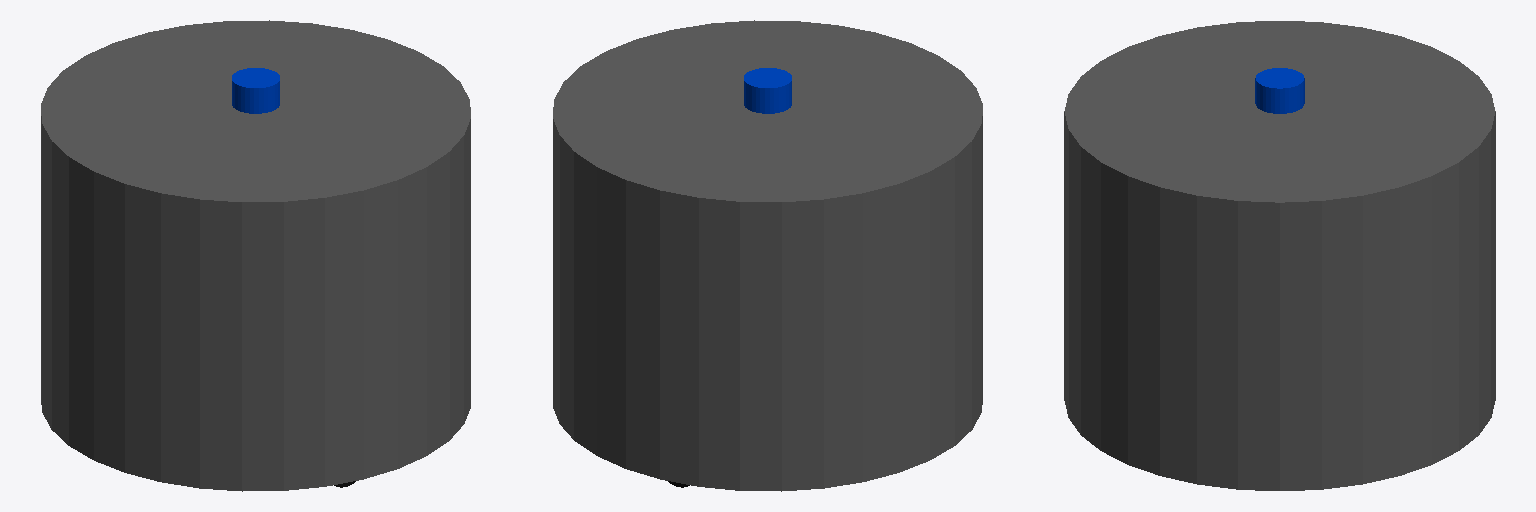
robot.urdf — slam_robot:
<?xml version="1.0"?>
<!--
  Robot URDF Description
  ======================
  Octagonal base robot with LD06 LiDAR
  
  Dimensions:
    - Height:               520mm (0.52m)
    - Octagonal base:       255mm per side, 615.62mm flat-to-flat
    - Wheel track (between wheels): 488mm (0.488m)
    - LiDAR height:         mounted on top (z = 0.52m from ground)
    - Wheel diameter:       65mm (0.065m), width ~26mm
-->
<robot name="slam_robot">

  <!-- ============================================================ -->
  <!--  BASE FOOTPRINT (ground projection)                          -->
  <!-- ============================================================ -->
  <link name="base_footprint"/>

  <joint name="base_footprint_to_base_link" type="fixed">
    <parent link="base_footprint"/>
    <child link="base_link"/>
    <!-- base_link is at wheel axle height = wheel_radius = 0.0325m -->
    <origin xyz="0 0 0.0325" rpy="0 0 0"/>
  </joint>

  <!-- ============================================================ -->
  <!--  BASE LINK (octagonal body)                                  -->
  <!-- ============================================================ -->
  <link name="base_link">
    <visual>
      <origin xyz="0 0 0.2275" rpy="0 0 0"/>
      <!-- Approximate octagon as a cylinder with circumradius ~0.308m -->
      <geometry>
        <cylinder radius="0.30781" length="0.455"/>
      </geometry>
      <material name="chassis_grey">
        <color rgba="0.4 0.4 0.4 1.0"/>
      </material>
    </visual>
    <collision>
      <origin xyz="0 0 0.2275" rpy="0 0 0"/>
      <geometry>
        <cylinder radius="0.30781" length="0.455"/>
      </geometry>
    </collision>
    <inertial>
      <origin xyz="0 0 0.2275" rpy="0 0 0"/>
      <mass value="5.0"/>
      <inertia ixx="0.1" ixy="0" ixz="0"
               iyy="0.1" iyz="0"
               izz="0.1"/>
    </inertial>
  </link>

  <!-- ============================================================ -->
  <!--  LEFT WHEEL                                                  -->
  <!-- ============================================================ -->
  <link name="left_wheel">
    <visual>
      <origin xyz="0 0 0" rpy="1.5708 0 0"/>
      <geometry>
        <cylinder radius="0.0325" length="0.026"/>
      </geometry>
      <material name="wheel_black">
        <color rgba="0.1 0.1 0.1 1.0"/>
      </material>
    </visual>
    <collision>
      <origin xyz="0 0 0" rpy="1.5708 0 0"/>
      <geometry>
        <cylinder radius="0.0325" length="0.026"/>
      </geometry>
    </collision>
    <inertial>
      <mass value="0.2"/>
      <inertia ixx="0.0001" ixy="0" ixz="0"
               iyy="0.0001" iyz="0"
               izz="0.0001"/>
    </inertial>
  </link>

  <joint name="left_wheel_joint" type="continuous">
    <parent link="base_link"/>
    <child link="left_wheel"/>
    <!-- Wheel at axle height (base_link origin), offset left by half track width -->
    <origin xyz="0 0.244 0" rpy="0 0 0"/>
    <axis xyz="0 1 0"/>
  </joint>

  <!-- ============================================================ -->
  <!--  RIGHT WHEEL                                                 -->
  <!-- ============================================================ -->
  <link name="right_wheel">
    <visual>
      <origin xyz="0 0 0" rpy="1.5708 0 0"/>
      <geometry>
        <cylinder radius="0.0325" length="0.026"/>
      </geometry>
      <material name="wheel_black">
        <color rgba="0.1 0.1 0.1 1.0"/>
      </material>
    </visual>
    <collision>
      <origin xyz="0 0 0" rpy="1.5708 0 0"/>
      <geometry>
        <cylinder radius="0.0325" length="0.026"/>
      </geometry>
    </collision>
    <inertial>
      <mass value="0.2"/>
      <inertia ixx="0.0001" ixy="0" ixz="0"
               iyy="0.0001" iyz="0"
               izz="0.0001"/>
    </inertial>
  </link>

  <joint name="right_wheel_joint" type="continuous">
    <parent link="base_link"/>
    <child link="right_wheel"/>
    <!-- Wheel at axle height (base_link origin), offset right by half track width -->
    <origin xyz="0 -0.244 0" rpy="0 0 0"/>
    <axis xyz="0 1 0"/>
  </joint>

  <!-- ============================================================ -->
  <!--  FRONT CASTER (for stability, simplified)                    -->
  <!-- ============================================================ -->
  <link name="front_caster">
    <visual>
      <origin xyz="0 0 0" rpy="0 0 0"/>
      <geometry>
        <sphere radius="0.0325"/>
      </geometry>
      <material name="caster_grey">
        <color rgba="0.3 0.3 0.3 1.0"/>
      </material>
    </visual>
    <collision>
      <origin xyz="0 0 0" rpy="0 0 0"/>
      <geometry>
        <sphere radius="0.0325"/>
      </geometry>
    </collision>
    <inertial>
      <mass value="0.1"/>
      <inertia ixx="0.00001" ixy="0" ixz="0"
               iyy="0.00001" iyz="0"
               izz="0.00001"/>
    </inertial>
  </link>

  <joint name="front_caster_joint" type="fixed">
    <parent link="base_link"/>
    <child link="front_caster"/>
    <!-- Caster at front of robot, at ground contact level (same as wheels) -->
    <origin xyz="0.20 0 0" rpy="0 0 0"/>
  </joint>

  <!-- ============================================================ -->
  <!--  LD06 LiDAR                                                  -->
  <!-- ============================================================ -->
  <link name="base_laser">
    <visual>
      <origin xyz="0 0 0" rpy="0 0 0"/>
      <geometry>
        <cylinder radius="0.035" length="0.04"/>
      </geometry>
      <material name="lidar_blue">
        <color rgba="0.0 0.3 0.8 1.0"/>
      </material>
    </visual>
    <collision>
      <origin xyz="0 0 0" rpy="0 0 0"/>
      <geometry>
        <cylinder radius="0.035" length="0.04"/>
      </geometry>
    </collision>
    <inertial>
      <mass value="0.1"/>
      <inertia ixx="0.00001" ixy="0" ixz="0"
               iyy="0.00001" iyz="0"
               izz="0.00001"/>
    </inertial>
  </link>

  <joint name="base_link_to_base_laser" type="fixed">
    <parent link="base_link"/>
    <child link="base_laser"/>
    <!-- LiDAR on top of the robot: height 520mm - 32.5mm(wheel axle) = 487.5mm above base_link -->
    <!-- Rotated -90° yaw to align LiDAR forward with robot forward -->
    <origin xyz="0 0 0.4875" rpy="0 0 -1.5708"/>
  </joint>

</robot>

--- Facts derived from the render (not from the file) ---
The picture shows the robot from 3 angles, left to right: view 1: azimuth 30°, elevation 25°; view 2: azimuth 150°, elevation 25°; view 3: azimuth 270°, elevation 25°; orthographic projection.
Model slam_robot with 6 links and 5 joints (2 continuous, 3 fixed), rooted at base_footprint, posed every joint at zero.
Links seen in each view (by area): view 1: base_link, base_laser; view 2: base_link, base_laser; view 3: base_link, base_laser.
Boxes of the visible links, box(x1,y1,x2,y2) form: base_link: box(41, 20, 470, 491); base_laser: box(232, 68, 279, 113); base_link: box(553, 20, 982, 491); base_laser: box(744, 68, 791, 113); base_link: box(1064, 21, 1495, 490); base_laser: box(1255, 68, 1304, 113).
Size in the robot's own frame: 0.6156 by 0.6156 by 0.54 metres.
Geometry: primitives only (box / cylinder / sphere), no mesh files.
